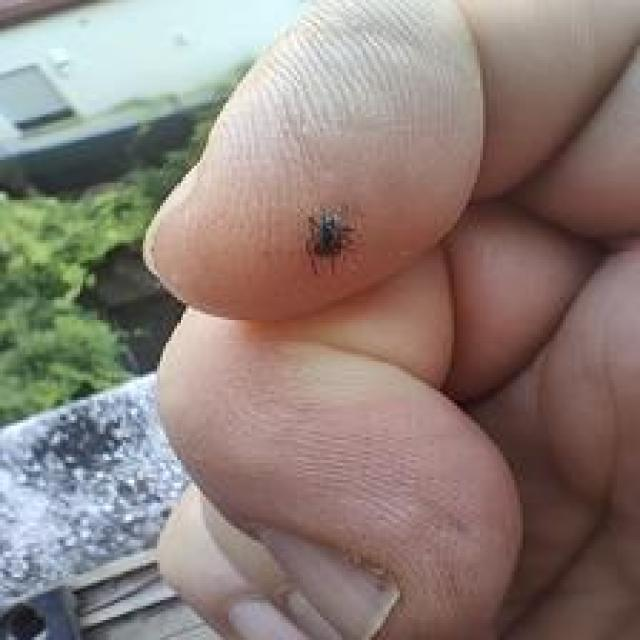Aedes albopictus: (303, 207, 357, 276)
